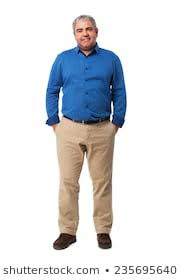standing: (37, 12, 135, 257)
